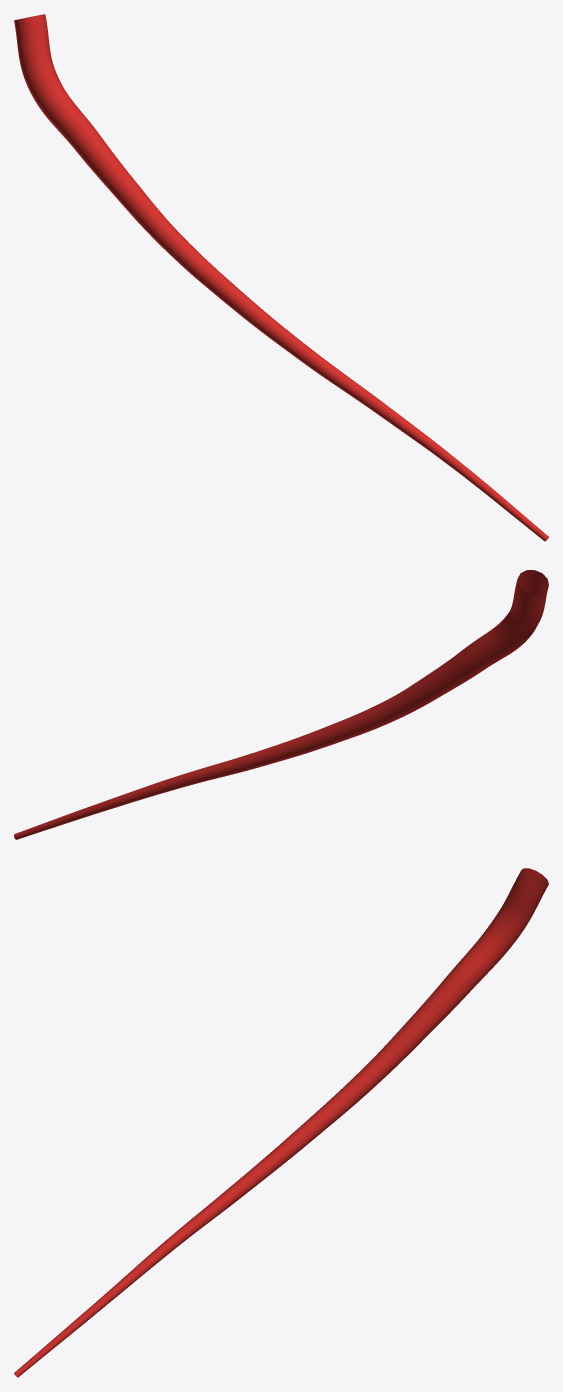
Rendered from circulatorio-posterior-superior-alveolar-artery-r.glb.
3 renders of one model, top to bottom at view 1: azimuth 30°, elevation 25°; view 2: azimuth 210°, elevation 25°; view 3: azimuth 270°, elevation 25°, orthographic. The views are drawn at different scales.
Parts seen in each view (by area): view 1: Posterior superior alveolar artery.r; view 2: Posterior superior alveolar artery.r; view 3: Posterior superior alveolar artery.r.
Part boxes in pixels (box(x1,y1,x2,y2)): Posterior superior alveolar artery.r: box(14, 14, 548, 541); Posterior superior alveolar artery.r: box(14, 570, 548, 839); Posterior superior alveolar artery.r: box(14, 868, 548, 1377).
Size of the model in its own units: 0.0097 by 0.0136 by 0.0171.
